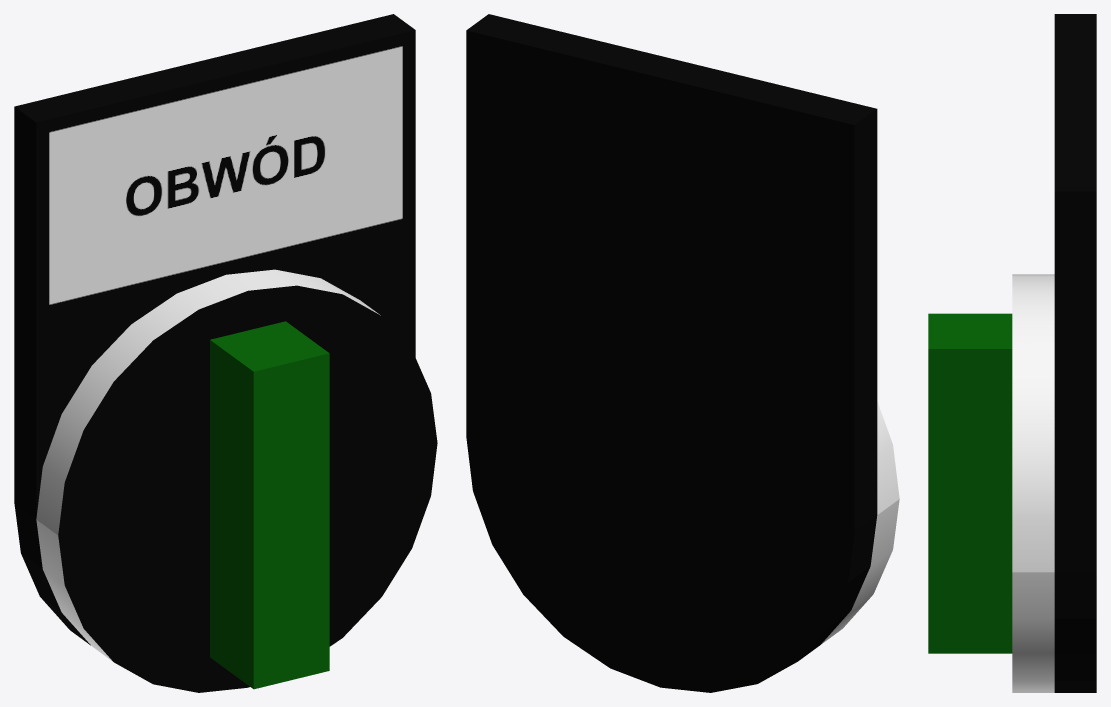
The model's file is Switcher-obwód.fbx.
The picture shows the model from 3 angles, left to right: view 1: azimuth 30°, elevation 25°; view 2: azimuth 150°, elevation 25°; view 3: azimuth 270°, elevation 25°; orthographic projection. The views are drawn at different scales.
Visible parts, largest first — view 1: Model; view 2: Model; view 3: Model.
Boxes of the visible parts, <box> form: Model: <box>14,14,437,692</box>; Model: <box>466,14,899,692</box>; Model: <box>928,14,1096,692</box>.
Bounding box in the file's own units: 0.1 × 0.15 × 0.04.
